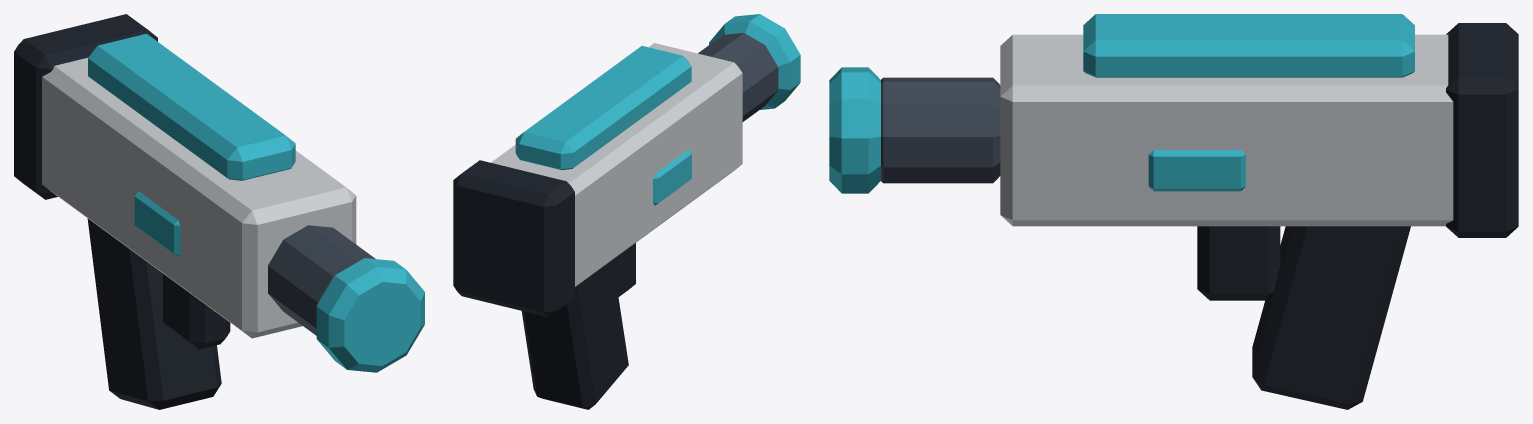
The model's file is wpn_blaster.glb.
The picture shows the model from 3 angles, left to right: view 1: azimuth 30°, elevation 25°; view 2: azimuth 150°, elevation 25°; view 3: azimuth 270°, elevation 25°; orthographic projection. The views are drawn at different scales.
Parts seen in each view (by area): view 1: GEO_weapon; view 2: GEO_weapon; view 3: GEO_weapon.
Part boxes in pixels (x1,y1,x2,y2): GEO_weapon: (14,14,424,409); GEO_weapon: (453,14,800,409); GEO_weapon: (829,14,1518,409).
Size of the model in its own units: 0.1725 by 0.451 by 0.7647.
